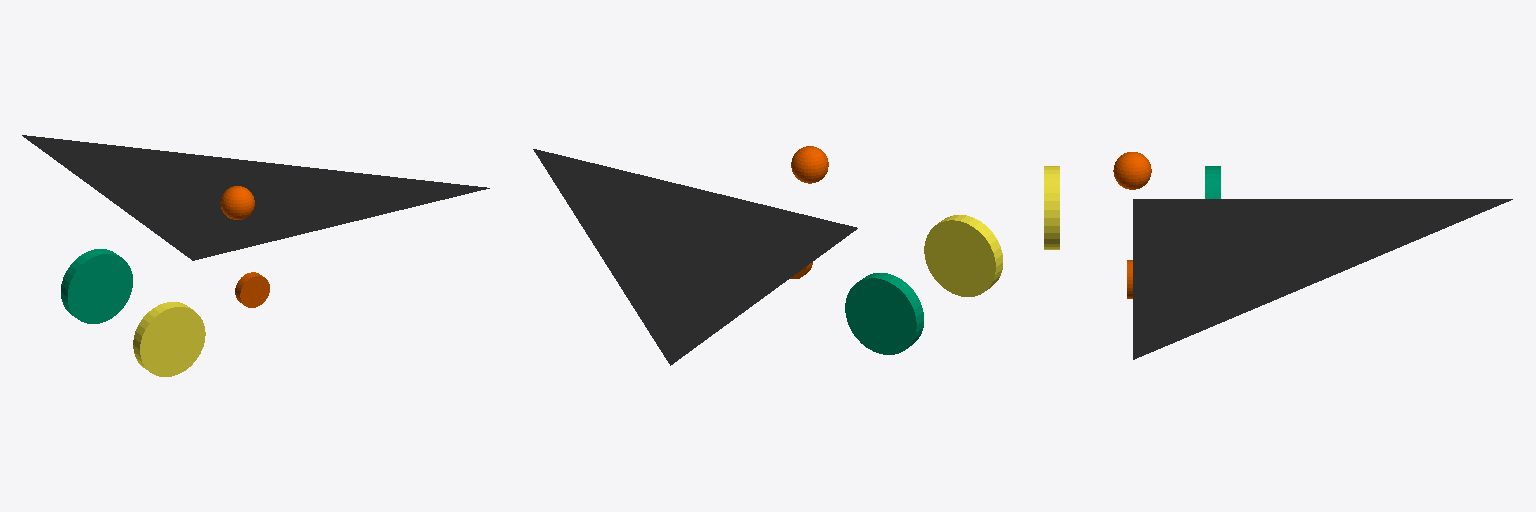
The robot description file, URDF, robot "fx_robot":
<?xml version="1.0"?>
<!--
  Real robot variant. Three variants share the robot name on purpose, so a
  resolver that keys on the robot name merges three different models.
  Frames only this variant declares: tow_link, imu_mount.
-->
<robot name="fx_robot">

  <link name="base_footprint"/>

  <joint name="base_joint" type="fixed">
    <parent link="base_footprint"/>
    <child link="base_link"/>
    <origin xyz="0 0 0.12" rpy="0 0 0"/>
  </joint>

  <link name="base_link">
    <visual>
      <origin xyz="0.25 0 0.1" rpy="0 0 0"/>
      <geometry>
        <mesh filename="package://fx_desc/meshes/fx_body.stl" scale="1 1 1"/>
      </geometry>
      <material name="fx_black"><color rgba="0.2 0.2 0.2 1"/></material>
    </visual>
    <collision>
      <origin xyz="0.25 0 0.1" rpy="0 0 0"/>
      <geometry><box size="0.6 0.45 0.2"/></geometry>
    </collision>
    <inertial>
      <mass value="35.0"/>
      <origin xyz="0.25 0 0.1" rpy="0 0 0"/>
      <inertia ixx="0.8" ixy="0" ixz="0" iyy="1.2" iyz="0" izz="1.5"/>
    </inertial>
  </link>

  <joint name="drive_left_joint" type="continuous">
    <parent link="base_link"/>
    <child link="drive_left_wheel"/>
    <origin xyz="0.05 0.21 -0.02" rpy="0 0 0"/>
    <axis xyz="0 1 0"/>
  </joint>

  <link name="drive_left_wheel">
    <visual>
      <origin xyz="0 0 0" rpy="1.5708 0 0"/>
      <geometry><cylinder radius="0.11" length="0.04"/></geometry>
    </visual>
  </link>

  <joint name="drive_right_joint" type="continuous">
    <parent link="base_link"/>
    <child link="drive_right_wheel"/>
    <origin xyz="0.05 -0.21 -0.02" rpy="0 0 0"/>
    <axis xyz="0 1 0"/>
  </joint>

  <link name="drive_right_wheel">
    <visual>
      <origin xyz="0 0 0" rpy="1.5708 0 0"/>
      <geometry><cylinder radius="0.11" length="0.04"/></geometry>
    </visual>
  </link>

  <joint name="caster_swivel_joint" type="revolute">
    <parent link="base_link"/>
    <child link="caster_swivel_link"/>
    <origin xyz="0.45 0 0" rpy="0 0 0"/>
    <axis xyz="0 0 1"/>
    <limit lower="-0.7854" upper="0.7854" effort="40" velocity="2.0"/>
  </joint>

  <link name="caster_swivel_link"/>

  <joint name="caster_wheel_joint" type="continuous">
    <parent link="caster_swivel_link"/>
    <child link="caster_wheel"/>
    <origin xyz="0 0 -0.04" rpy="0 0 0"/>
    <axis xyz="0 1 0"/>
  </joint>

  <link name="caster_wheel">
    <visual>
      <origin xyz="0 0 0" rpy="1.5708 0 0"/>
      <geometry><cylinder radius="0.05" length="0.03"/></geometry>
    </visual>
  </link>

  <!-- Mimic joint: the dashboard indicator follows the real steering axis. -->
  <joint name="steer_indicator_joint" type="revolute">
    <parent link="caster_swivel_link"/>
    <child link="steer_indicator"/>
    <origin xyz="0 0 0.1" rpy="0 0 0"/>
    <axis xyz="0 0 1"/>
    <limit lower="-0.7854" upper="0.7854" effort="1" velocity="1"/>
    <mimic joint="caster_swivel_joint" multiplier="1.0" offset="0.0"/>
  </joint>

  <link name="steer_indicator"/>

  <joint name="sensor_joint" type="fixed">
    <parent link="base_link"/>
    <child link="sensor_link"/>
    <origin xyz="0.4 0 0.25" rpy="0 0 0"/>
  </joint>

  <link name="sensor_link">
    <visual name="sensor_dome">
      <geometry><sphere radius="0.05"/></geometry>
      <material name="fx_orange"/>
    </visual>
  </link>

  <joint name="tow_joint" type="fixed">
    <parent link="base_link"/>
    <child link="tow_link"/>
    <origin xyz="0.05 0 -0.06" rpy="0 0 0"/>
  </joint>

  <link name="tow_link"/>

  <joint name="imu_mount_joint" type="fixed">
    <parent link="base_link"/>
    <child link="imu_mount"/>
    <origin xyz="0.4 0 0.18" rpy="3.14159 0 0"/>
  </joint>

  <link name="imu_mount"/>

  <material name="fx_orange"><color rgba="0.92 0.4 0 1"/></material>

</robot>

--- What the picture shows (computed from the rendered views, not written in the file) ---
3 views of the same robot in one strip: view 1: azimuth 30°, elevation 25°; view 2: azimuth 150°, elevation 25°; view 3: azimuth 270°, elevation 25° (orthographic).
Model fx_robot with 10 links and 9 joints (2 revolute, 3 continuous, 4 fixed), rooted at base_footprint, posed every joint at zero.
Visible links, largest first — view 1: base_link, drive_right_wheel, drive_left_wheel, caster_wheel, sensor_link; view 2: base_link, drive_left_wheel, drive_right_wheel, sensor_link; view 3: base_link, drive_right_wheel, sensor_link, drive_left_wheel.
Link boxes in pixels (bbox=[...]): base_link: bbox=[22, 135, 489, 260]; drive_right_wheel: bbox=[133, 302, 205, 376]; drive_left_wheel: bbox=[61, 249, 132, 323]; caster_wheel: bbox=[235, 272, 269, 307]; sensor_link: bbox=[220, 186, 254, 219]; base_link: bbox=[533, 149, 857, 365]; drive_left_wheel: bbox=[845, 273, 923, 354]; drive_right_wheel: bbox=[924, 215, 1002, 296]; sensor_link: bbox=[791, 146, 828, 183]; base_link: bbox=[1133, 199, 1512, 359]; drive_right_wheel: bbox=[1044, 166, 1059, 249]; sensor_link: bbox=[1113, 152, 1151, 189]; drive_left_wheel: bbox=[1205, 166, 1220, 198].
Size in the robot's own frame: 1.31 by 1.23 by 0.43 metres.
Meshes: 1 distinct files referenced, 1 mesh visuals loaded (1 ASCII STL).
